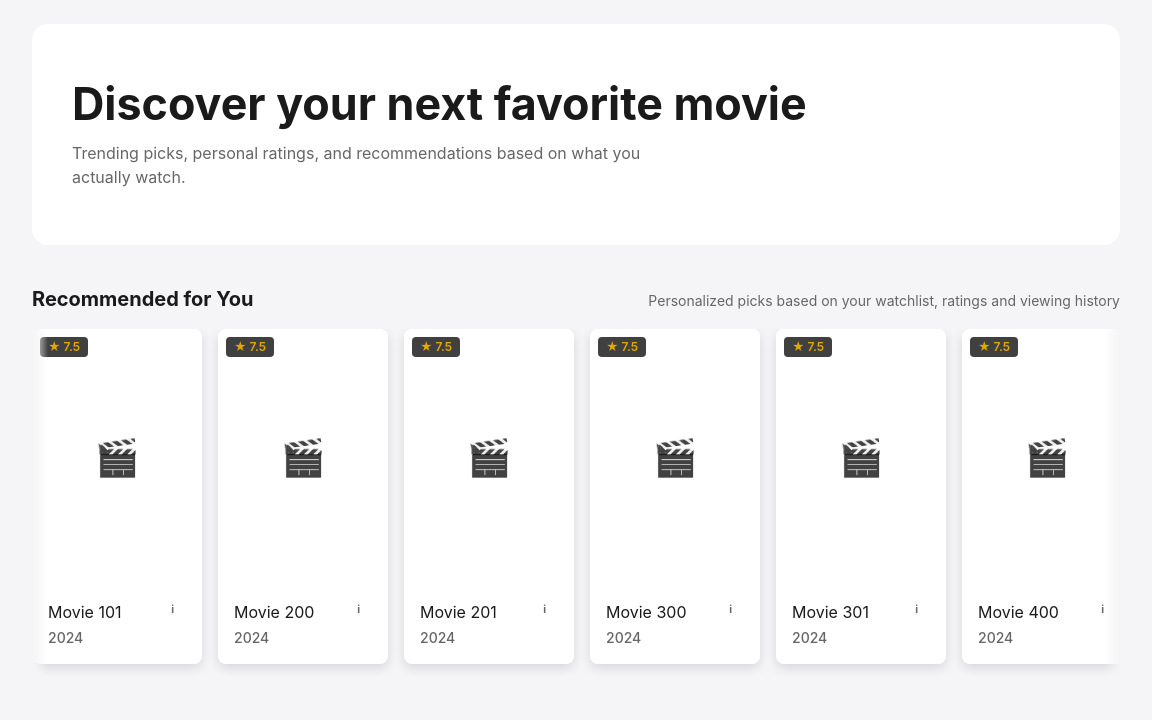
Test: Home page (integration, StrictMode) › runs the full personalized pipeline (profile -> shortlist -> enrichment -> re-rank -> explanations) and excludes already-rated movies even when poorly rated
Expected: the text "Recommended for You" does not show "Movie 100", [32, 285, 1120, 676]
Expected: the text "Recommended for You" does not show "Recommended because"
Hover over the button "i" next to "Movie 101" at x=173, y=610, box [159, 600, 186, 620]
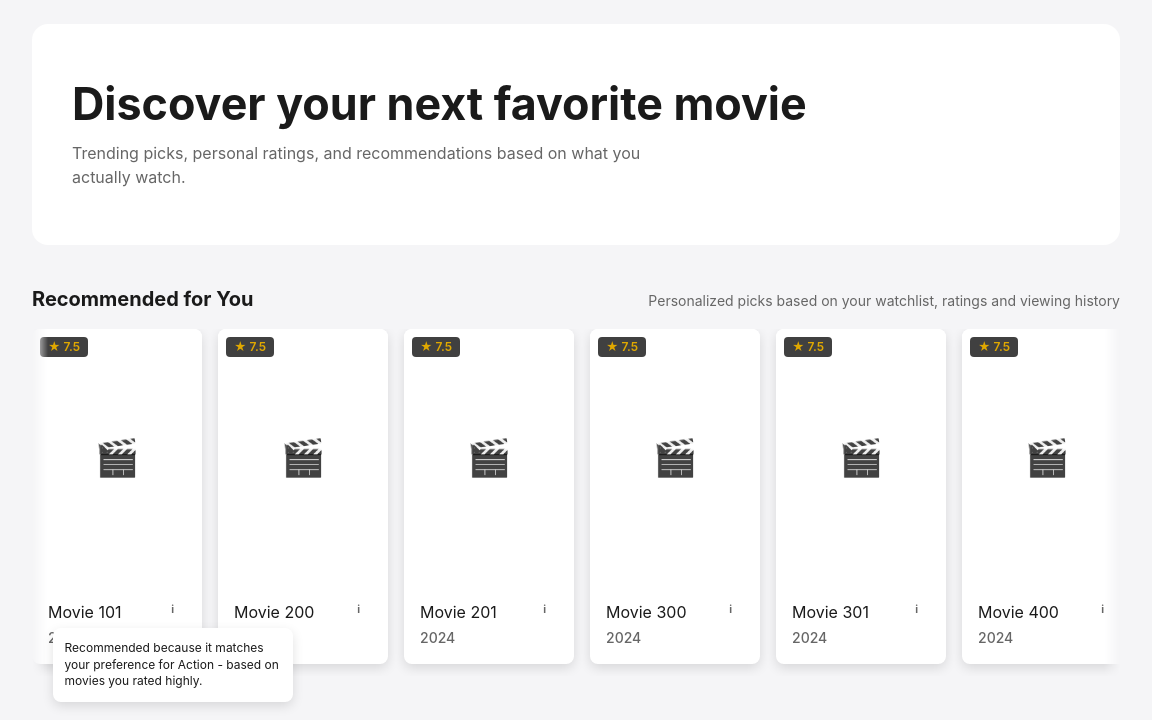
Expected: the tooltip is shown, [52, 628, 292, 702]
Expected: the tooltip shows "Action", [64, 640, 279, 688]
